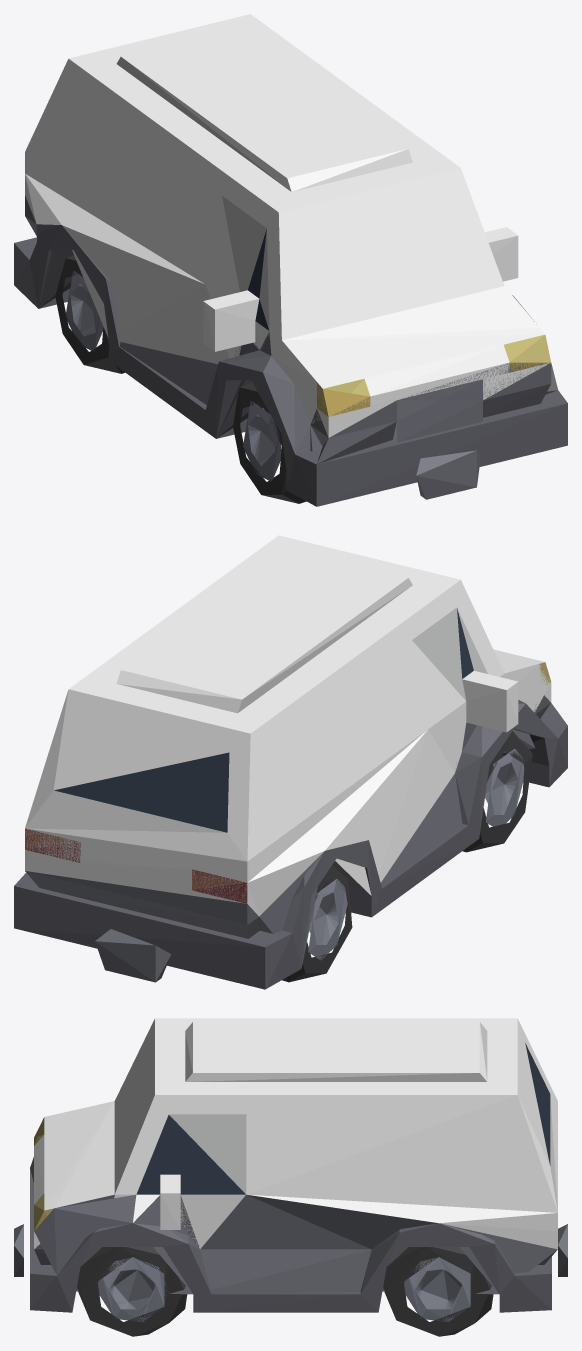
The model's file is vehicle.van.glb.
The picture shows the model from 3 angles, top to bottom: view 1: azimuth 30°, elevation 25°; view 2: azimuth 150°, elevation 25°; view 3: azimuth 270°, elevation 25°; orthographic projection. The views are drawn at different scales.
Parts seen in each view (by area): view 1: near, far; view 2: near, far; view 3: near, far.
Boxes of the visible parts, box(x1,y1,x2,y2) form: near: box(14, 14, 567, 506); far: box(25, 89, 557, 451); near: box(14, 535, 567, 989); far: box(25, 541, 550, 965); near: box(14, 1018, 567, 1336); far: box(34, 1082, 557, 1294).
Size of the model in its own units: 2 by 1.79 by 3.67.
